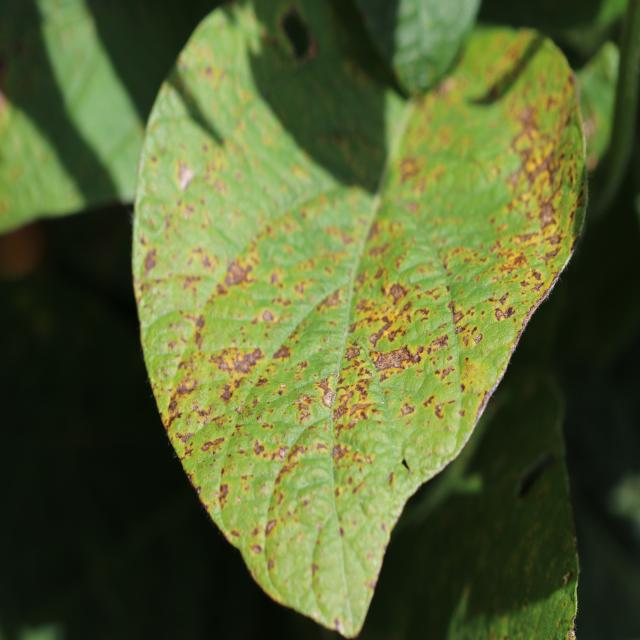Bacterial_Blight: (475, 34, 546, 106), (509, 280, 564, 353), (517, 135, 565, 203), (449, 302, 500, 360), (372, 339, 423, 380), (510, 103, 547, 156), (278, 7, 314, 58), (369, 316, 395, 344), (473, 388, 493, 424), (225, 261, 253, 286), (175, 159, 194, 189), (581, 110, 597, 145), (399, 156, 421, 181), (239, 348, 263, 370), (349, 402, 375, 421), (166, 405, 185, 430), (200, 436, 225, 454), (365, 222, 383, 247), (320, 289, 342, 309), (142, 247, 158, 274), (429, 333, 450, 353), (435, 363, 455, 384), (175, 378, 195, 398), (494, 305, 516, 322), (389, 282, 406, 302), (332, 443, 350, 461), (398, 401, 416, 418), (273, 344, 291, 361), (316, 376, 332, 395), (334, 404, 350, 421), (219, 384, 234, 402), (345, 345, 361, 361), (451, 307, 465, 324), (544, 234, 561, 248), (321, 389, 334, 407), (400, 456, 413, 474), (512, 254, 528, 268), (218, 482, 229, 501), (265, 519, 277, 536), (195, 314, 206, 332), (261, 308, 275, 322), (253, 441, 266, 456), (497, 292, 510, 306), (298, 409, 311, 423), (277, 446, 289, 460), (334, 616, 344, 632), (255, 376, 268, 388), (366, 578, 377, 592), (168, 400, 178, 415), (250, 543, 263, 554), (435, 403, 445, 417), (388, 471, 395, 488), (311, 562, 319, 576), (267, 559, 275, 570), (195, 485, 202, 496), (339, 526, 345, 538), (279, 383, 287, 391)
Soybean: (131, 0, 587, 640)
